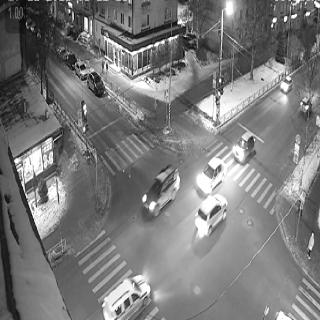small-vehicle: (104, 267, 147, 320), (195, 189, 224, 245), (146, 164, 178, 212), (196, 149, 222, 195), (232, 128, 251, 168), (88, 64, 106, 100), (279, 70, 293, 98), (76, 54, 88, 83), (296, 94, 310, 118), (67, 49, 78, 69), (56, 43, 66, 64)
